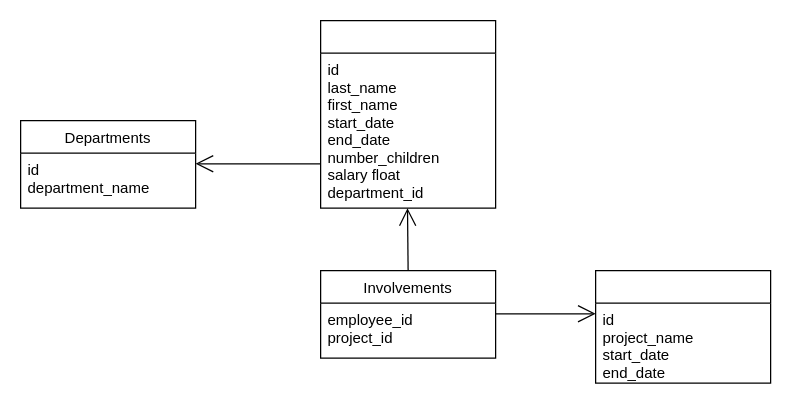
Some shapes in this 791 by 404 pixel diagram are drawn without their labels. Here are the shapes that lost their labels. From the top down, the box of each, then its label:
(319, 19, 496, 208): Employees
(594, 269, 771, 383): Projects
